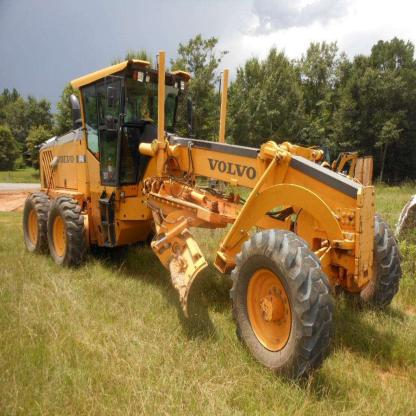bull_dozer/loader/grader: (23, 55, 416, 398)
